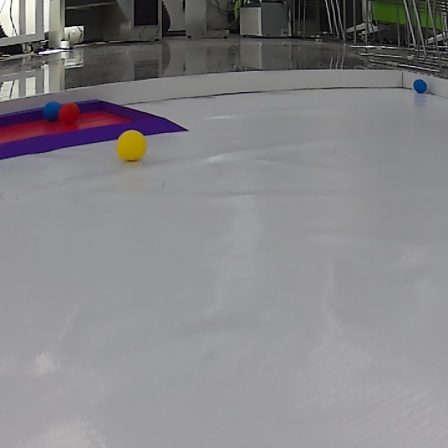blue: (41, 99, 67, 119), (412, 78, 430, 97)
red: (60, 102, 87, 126)
red_aim: (0, 93, 199, 158)
yellow: (118, 129, 146, 162)
